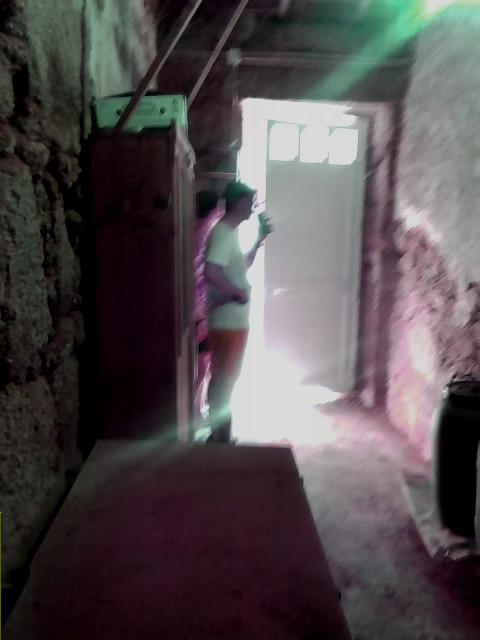closed_door: (263, 118, 367, 395)
